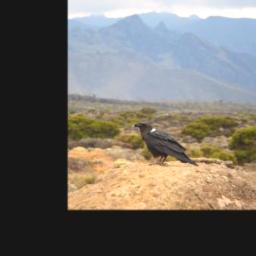Crow: (132, 121, 201, 168)
